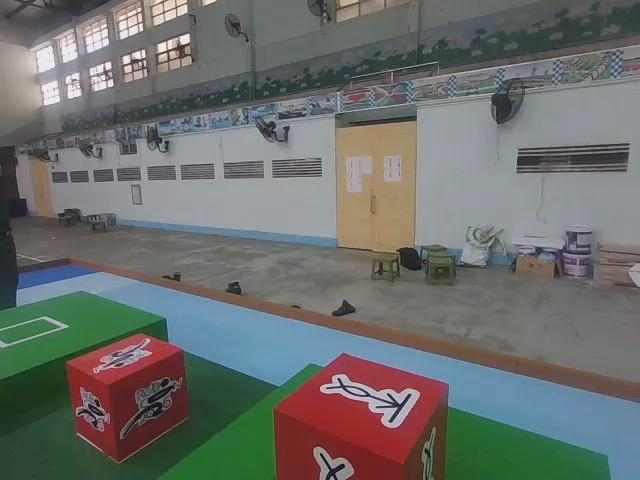R1: (68, 331, 191, 463)
R2 Real: (275, 353, 450, 480)
